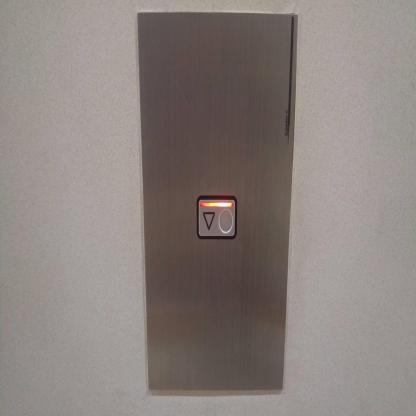down: (196, 191, 237, 242)
